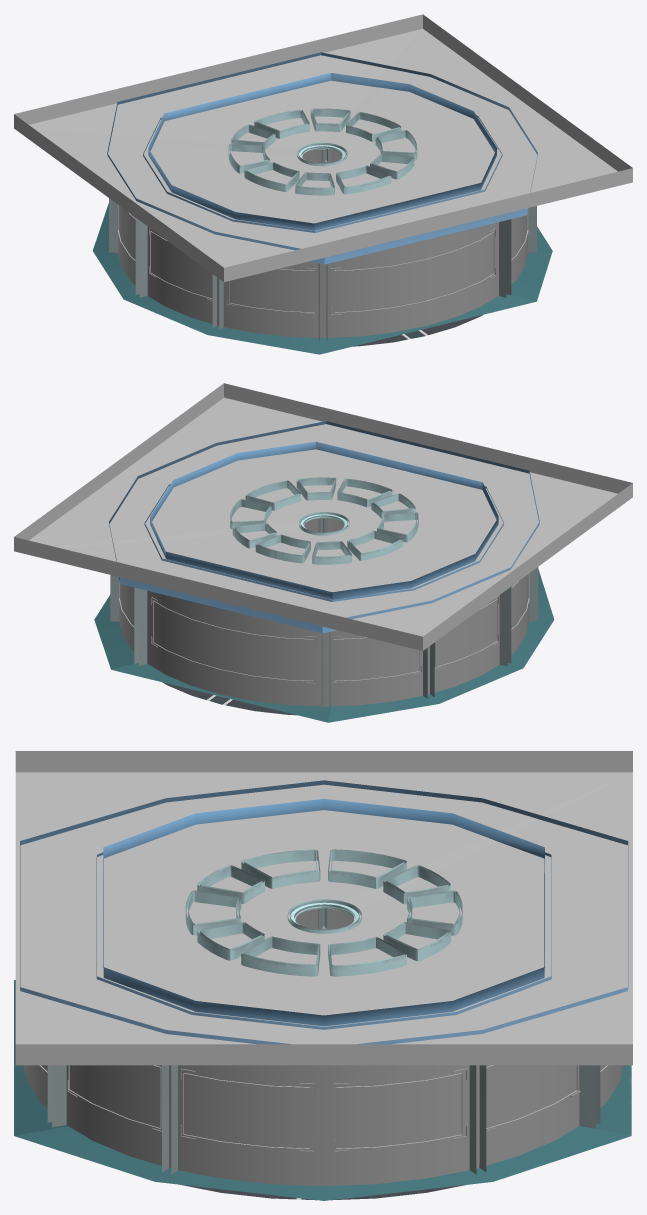
File: khcc.fbx
3 views of the same model, one above another, from view 1: azimuth 30°, elevation 25°; view 2: azimuth 150°, elevation 25°; view 3: azimuth 270°, elevation 25° (orthographic). The views are drawn at different scales.
Parts seen in each view (by area): view 1: tianhuaban1, polySurface142, polySurface141, ping6, dimian1; view 2: tianhuaban1, polySurface142, polySurface141, ping6, dimian1; view 3: tianhuaban1, polySurface142, polySurface141, ping6, dimian1.
Part boxes in pixels (x1,y1,x2,y2): tianhuaban1: (14, 14, 632, 281); polySurface142: (92, 52, 552, 354); polySurface141: (118, 149, 527, 337); ping6: (118, 205, 528, 312); dimian1: (353, 315, 482, 346); tianhuaban1: (14, 383, 632, 650); polySurface142: (94, 421, 554, 722); polySurface141: (119, 518, 528, 706); ping6: (119, 573, 529, 681); dimian1: (162, 682, 296, 715); tianhuaban1: (15, 751, 632, 1065); polySurface142: (14, 780, 631, 1200); polySurface141: (23, 909, 623, 1186); ping6: (39, 1065, 607, 1148); dimian1: (180, 1184, 465, 1200).
Size of the model in its own units: 2289 by 668 by 2042.
